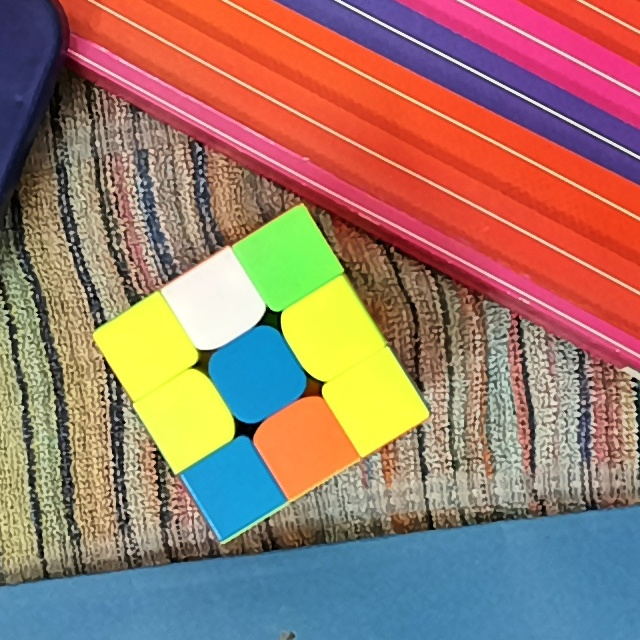tile: (225, 349, 286, 403), (273, 419, 332, 472), (206, 460, 262, 514), (187, 278, 243, 331), (259, 233, 315, 286), (156, 392, 212, 445), (302, 305, 359, 357), (346, 377, 402, 428), (117, 323, 171, 374)
